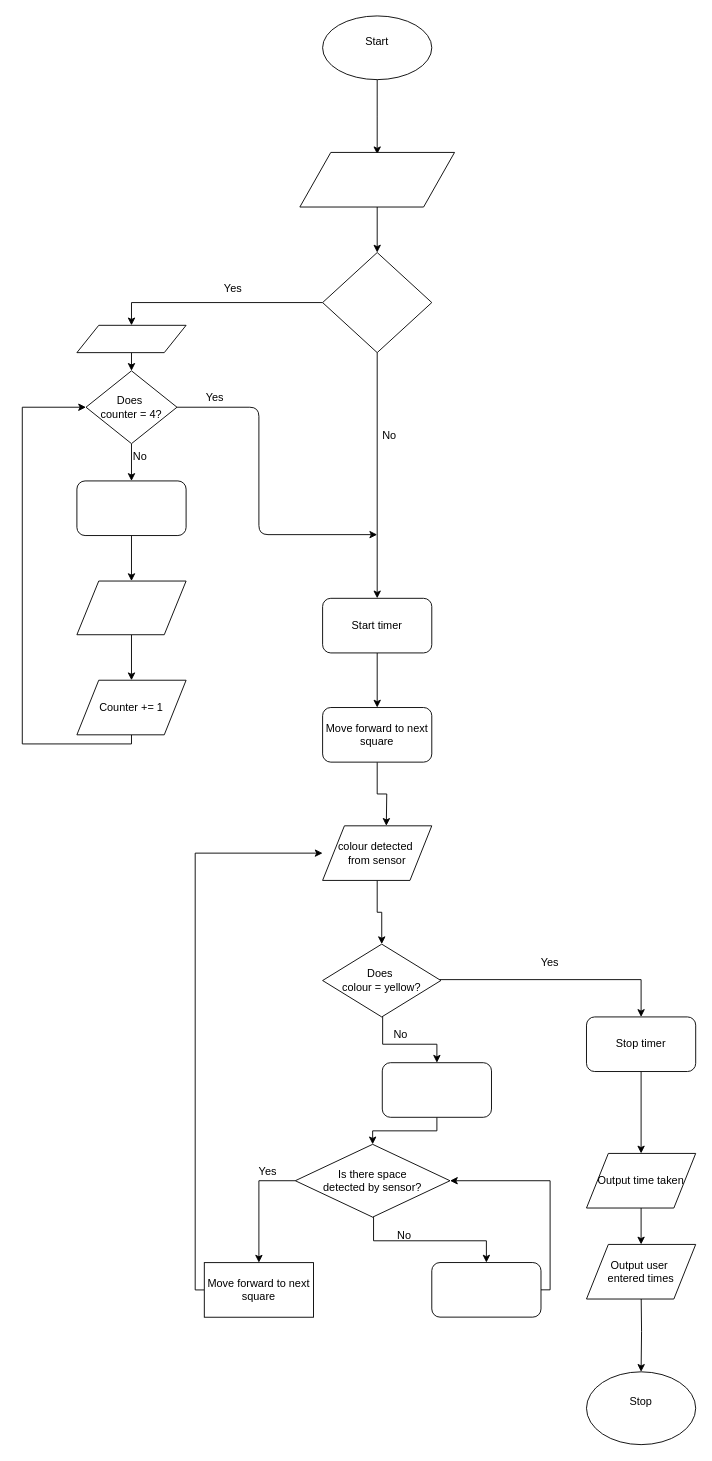
Some shapes in this 712 by 1461 pixel diagram are drawn without their labels. The box of each missing label's shape, as (x1, y1, x2, y2) in pixels:
Counter = 0: (76, 324, 186, 353)
Input stored as variable: (76, 580, 186, 635)
Is the Touch Sensor pressed?: (322, 252, 432, 353)
Touch sensor detects whether pressed or not: (299, 152, 455, 207)
Turn 90 degrees counter clockwise: (431, 1262, 541, 1317)
Turn 90degrees clockwise: (381, 1062, 491, 1117)
User inputs guess for time via Bluetooth: (76, 480, 186, 536)
